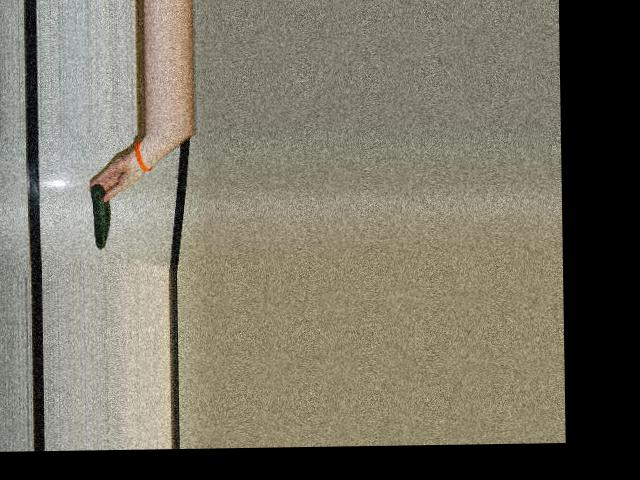cucumber: (89, 183, 109, 250)
